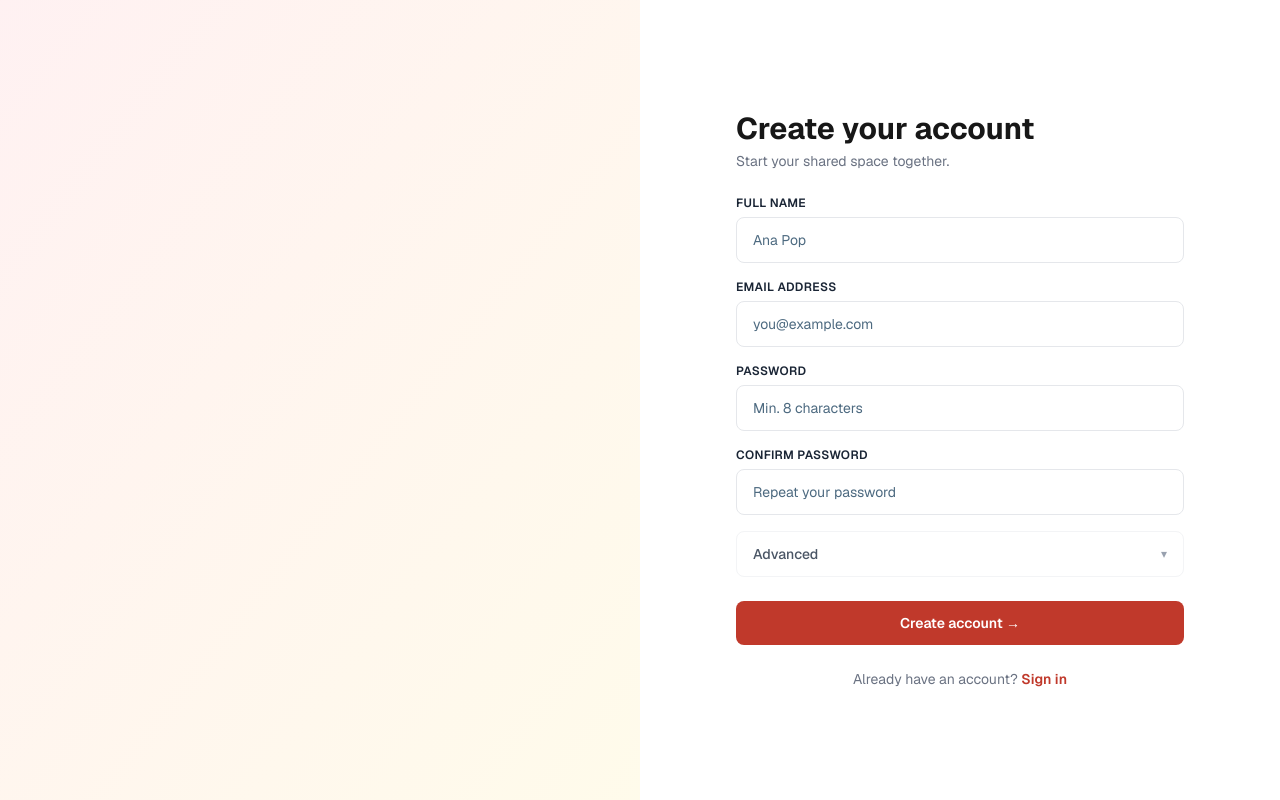
Test case: RegisterPage — PIN in collapsed advanced section (FD-10) › hides the PIN input again when the toggle is clicked a second time
Click the button "Advanced ▾".
click(786, 554)  # box [737,532,1183,576]
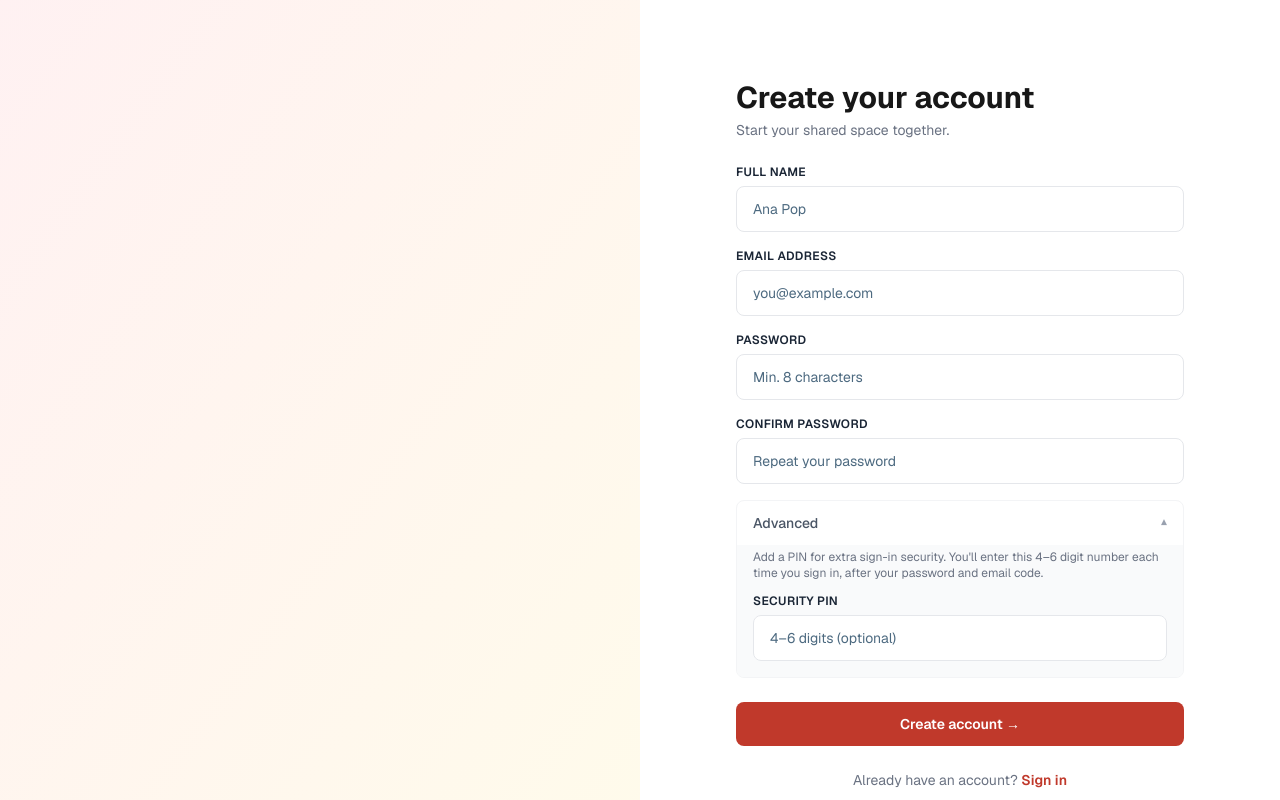
Result: the password field labelled "Security PIN" is shown at [753,615,1167,661]
Click the button "Advanced ▾".
click(786, 523)  # box [737,501,1183,545]
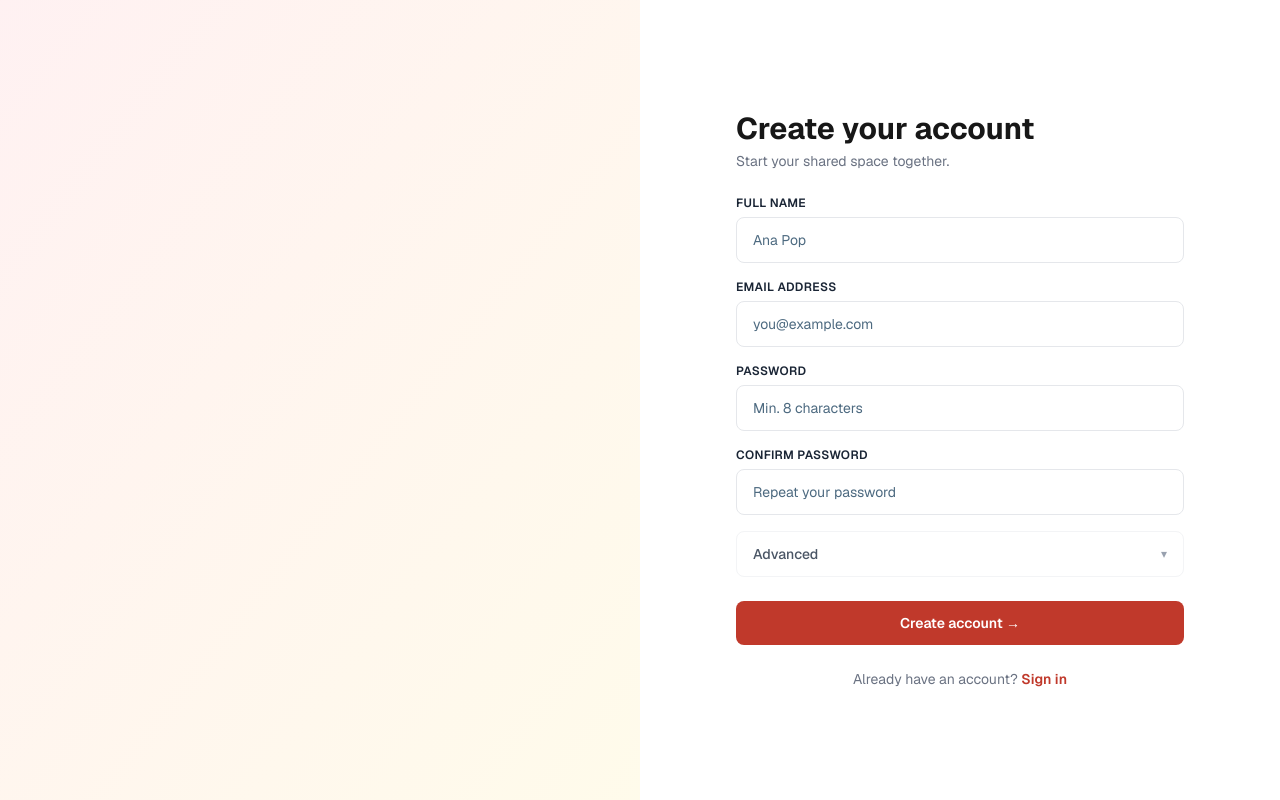
Result: the label labelled "Security PIN" is gone
